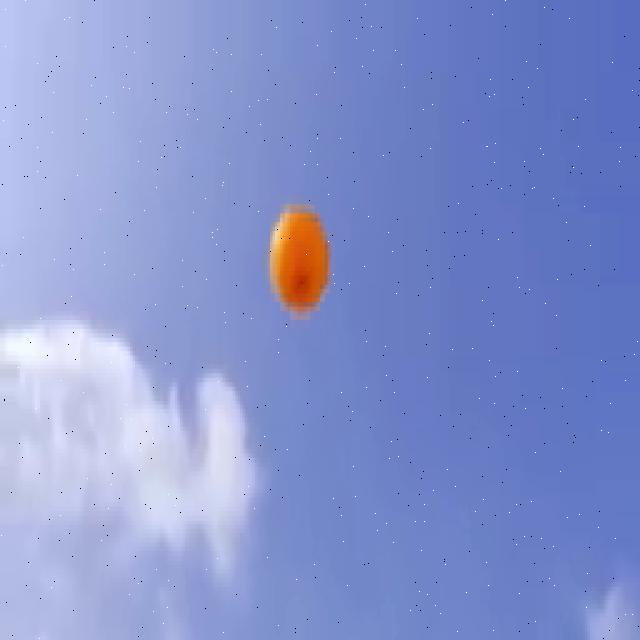red: (267, 202, 330, 316)
